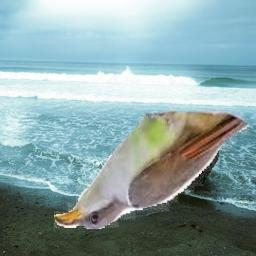Cuckoo: (54, 99, 250, 229)
